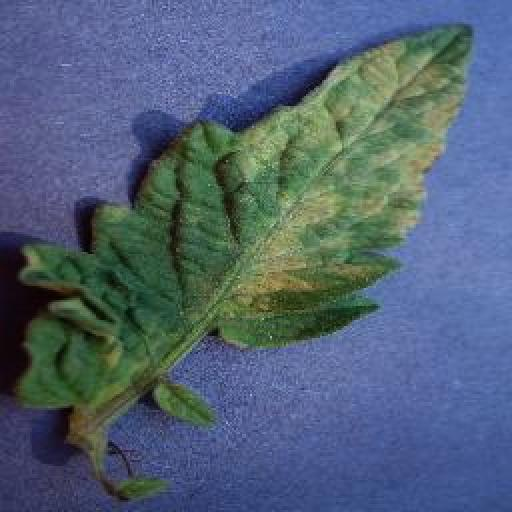disease_tomato: (20, 22, 472, 408)
